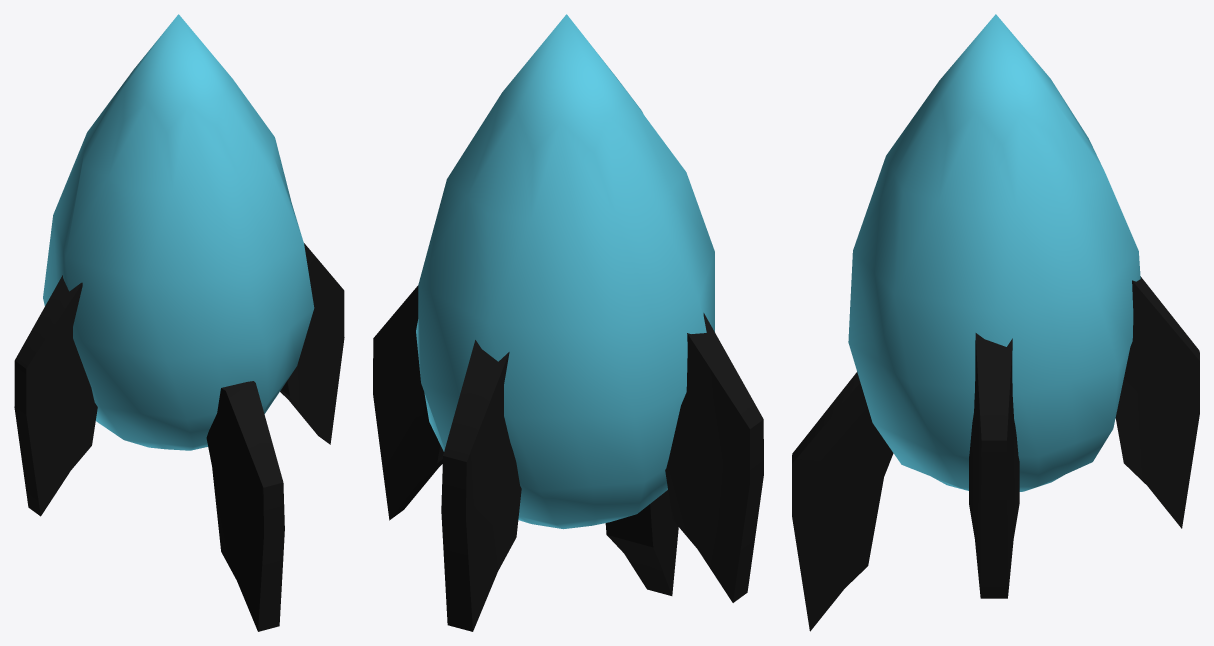
File: blue.obj
The picture shows the model from 3 angles, left to right: view 1: azimuth 30°, elevation 25°; view 2: azimuth 150°, elevation 25°; view 3: azimuth 270°, elevation 25°; orthographic projection. The views are drawn at different scales.
Visible parts, largest first — view 1: Sphere002, Box006, Box005, Box007; view 2: Sphere002, Box005, Box008, Box007, Box006; view 3: Sphere002, Box006, Box008, Box007.
Part boxes in pixels (bbox=[...]): Sphere002: bbox=[43, 14, 314, 450]; Box006: bbox=[206, 381, 284, 631]; Box005: bbox=[14, 275, 97, 516]; Box007: bbox=[280, 243, 344, 444]; Sphere002: bbox=[416, 14, 714, 529]; Box005: bbox=[665, 313, 763, 602]; Box008: bbox=[441, 340, 521, 631]; Box007: bbox=[373, 285, 443, 520]; Box006: bbox=[605, 490, 678, 595]; Sphere002: bbox=[848, 14, 1140, 491]; Box006: bbox=[792, 372, 893, 631]; Box008: bbox=[1115, 276, 1199, 528]; Box007: bbox=[969, 333, 1019, 598].
Size of the model in its own units: 73.08 by 121 by 73.65.
